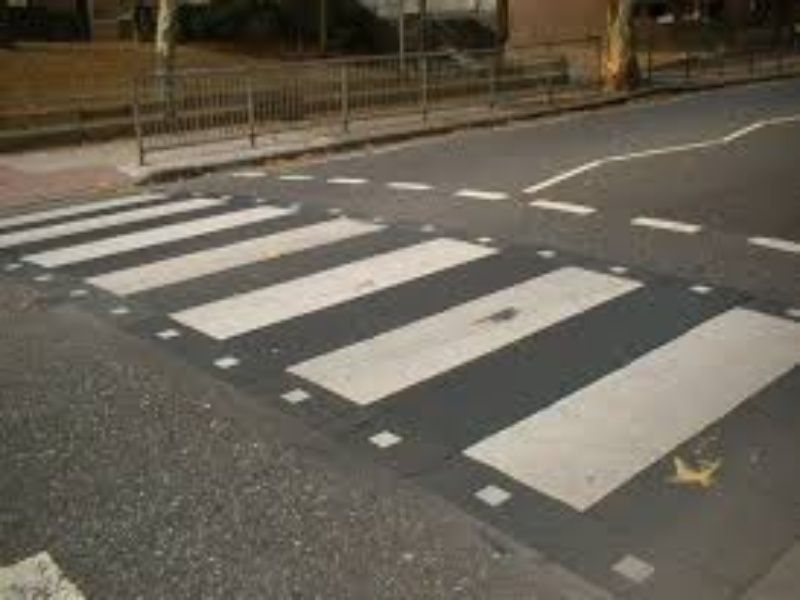zebra cross: (1, 197, 799, 519)
